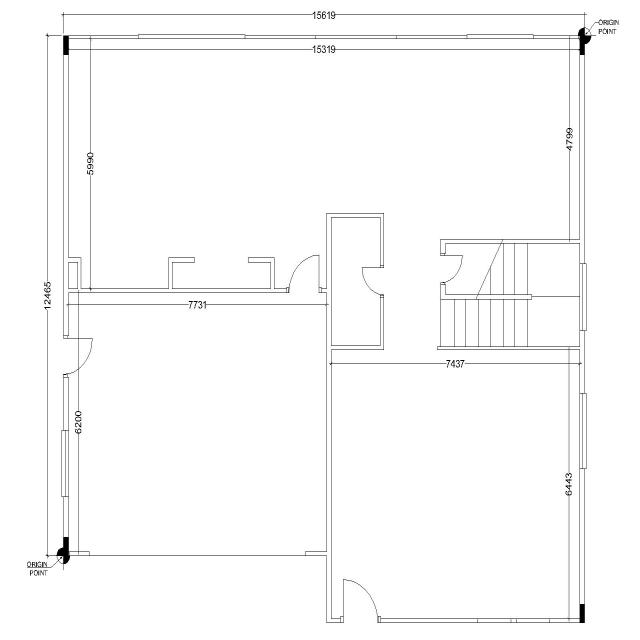Column: (63, 35, 69, 55), (63, 537, 69, 556), (579, 36, 585, 54), (580, 604, 584, 623)
Door: (340, 577, 382, 625), (62, 334, 94, 380), (286, 254, 322, 294), (360, 264, 384, 298), (440, 252, 464, 286)
Staircase: (437, 239, 582, 348)
Window: (136, 33, 248, 41), (578, 391, 588, 471), (60, 428, 70, 499), (578, 262, 588, 332), (466, 33, 536, 40)
